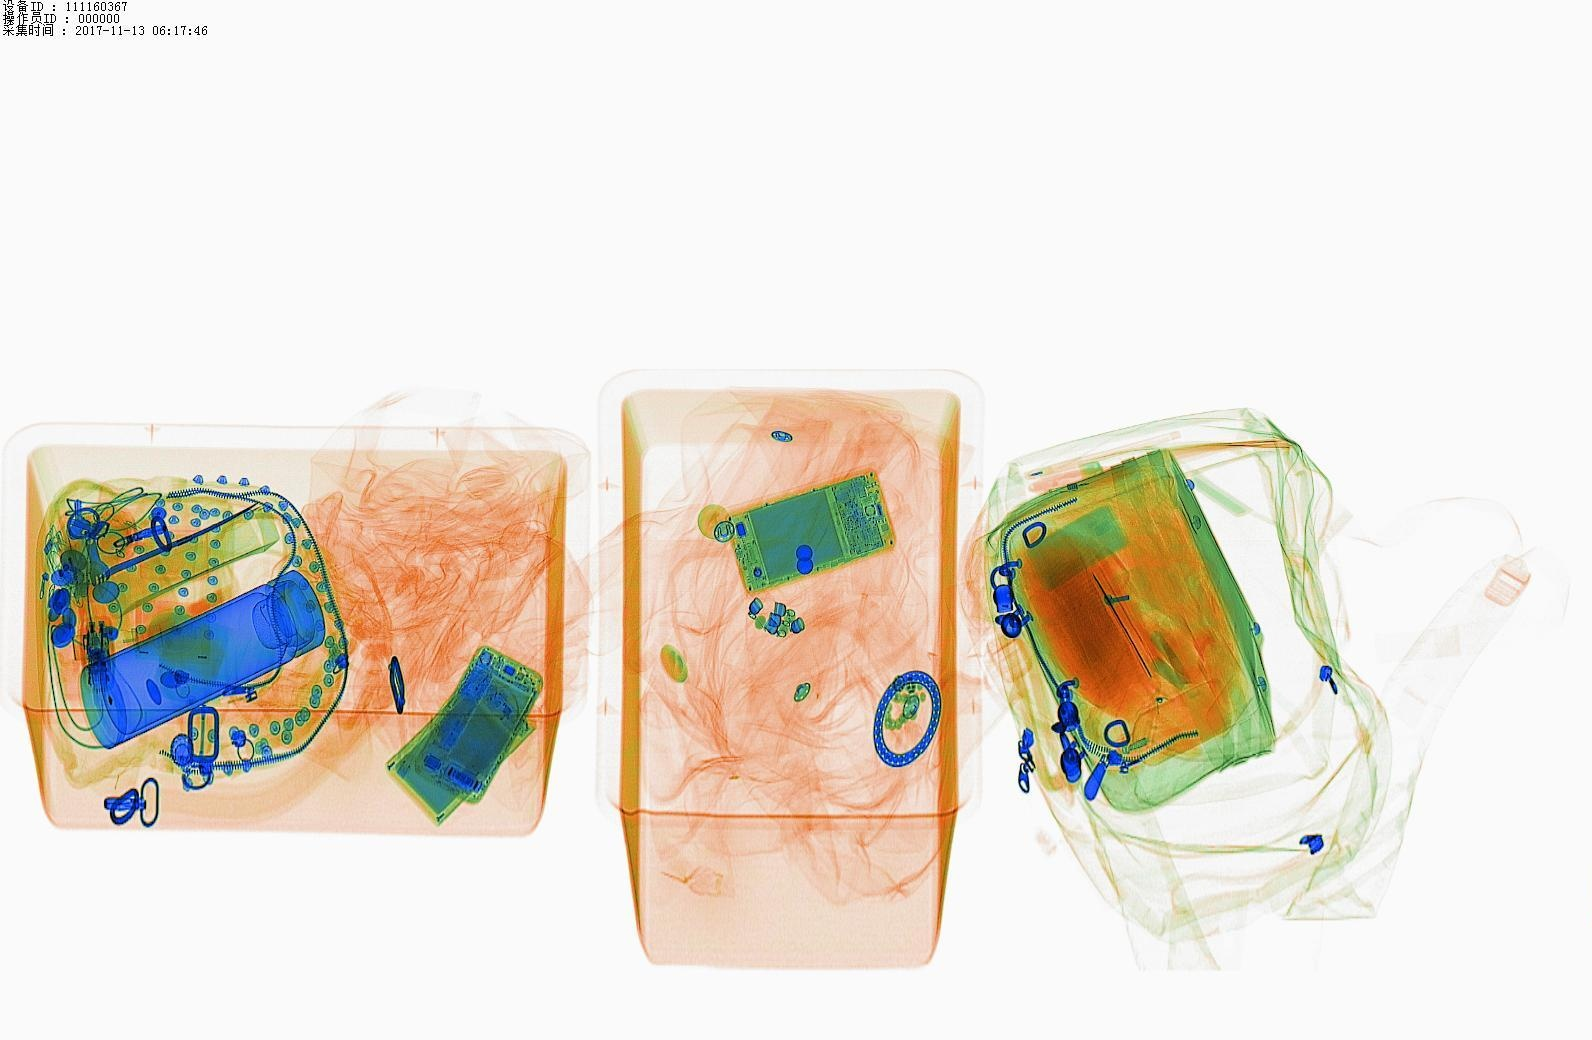coreless: (388, 688, 534, 804)
